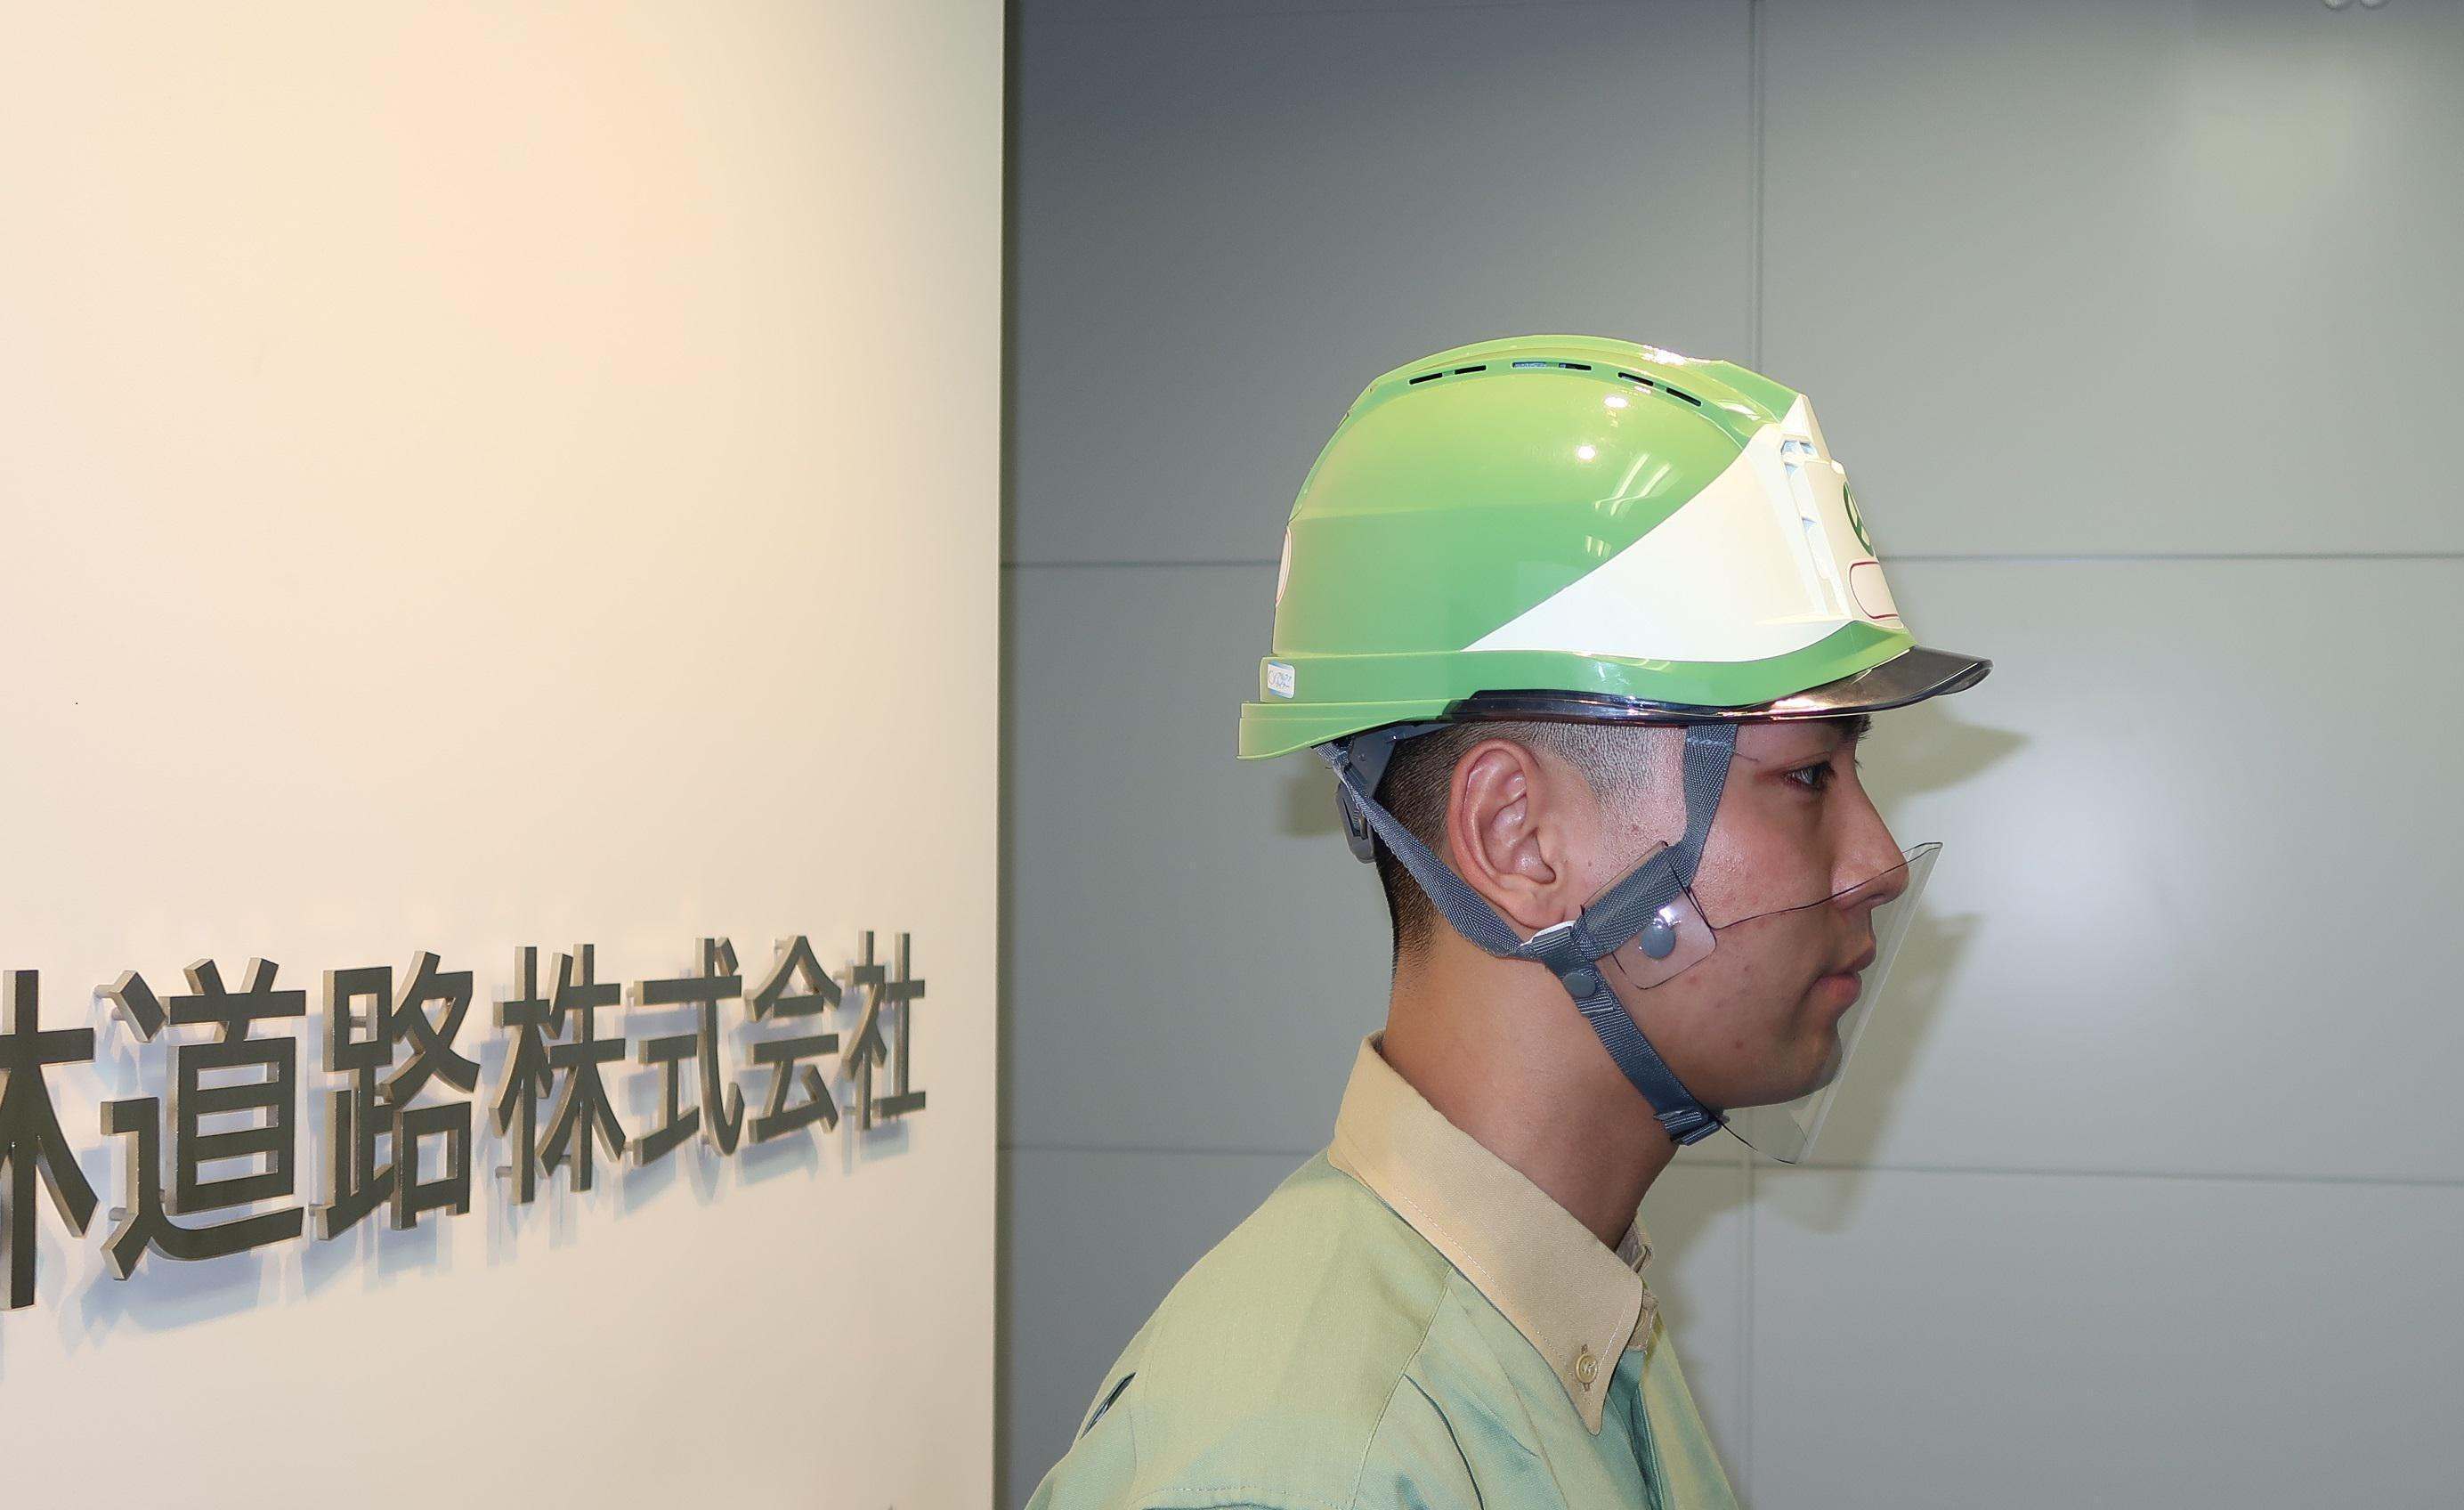helmet: (1236, 333, 1994, 762)
